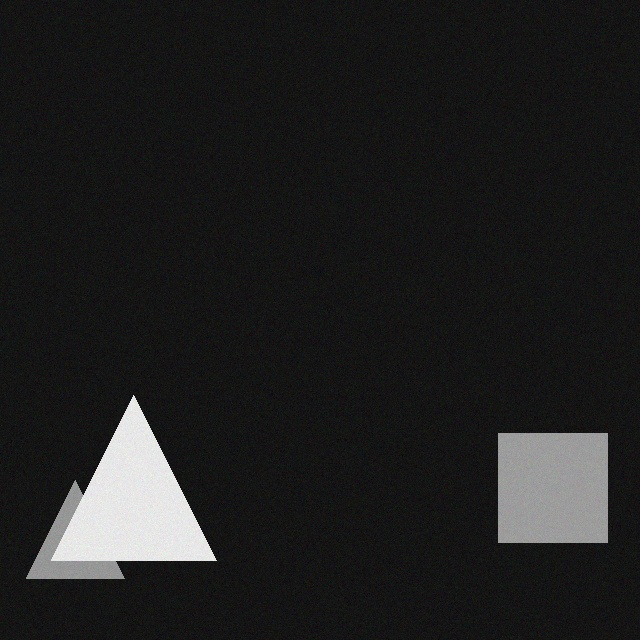square: (495, 444, 604, 553)
triangle: (48, 406, 213, 571), (23, 491, 121, 589)
